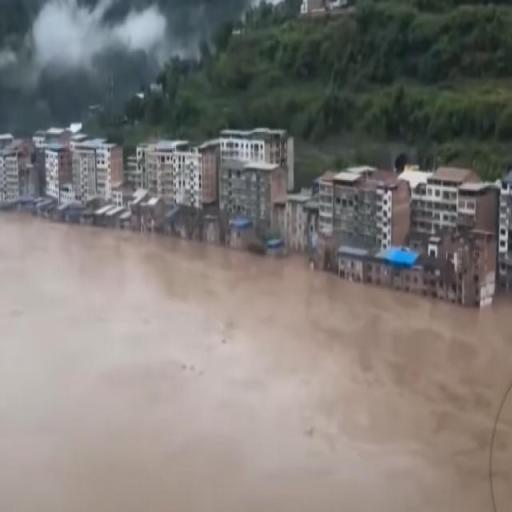flood: (0, 212, 512, 512)
house: (404, 172, 504, 312), (310, 166, 402, 280), (208, 130, 294, 244), (48, 138, 130, 212), (136, 141, 206, 207), (0, 142, 30, 210)
